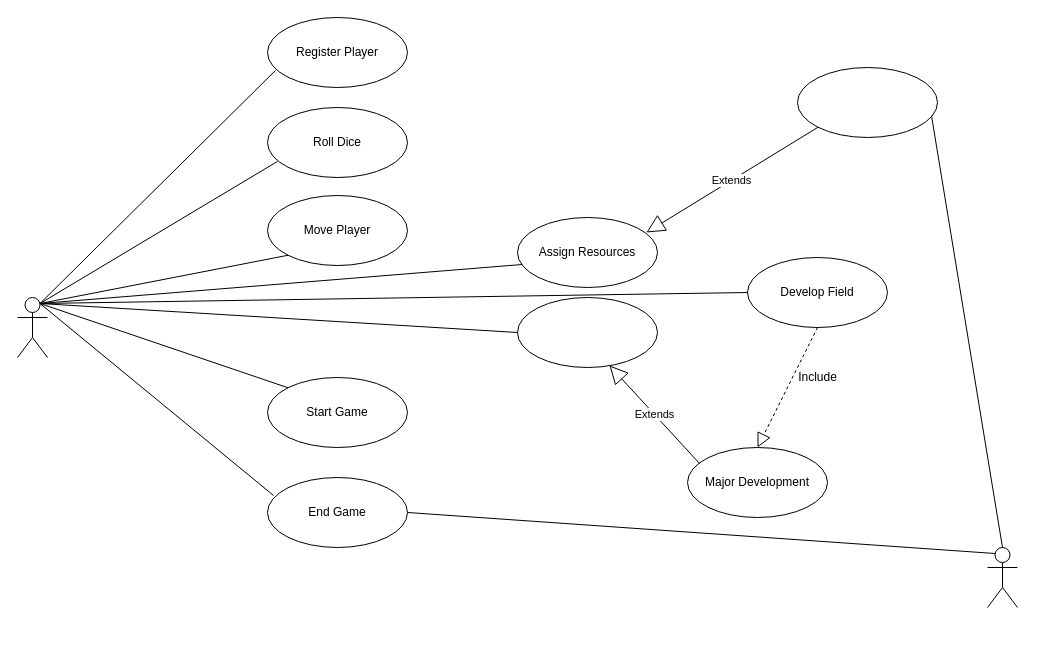
This 1040x646 diagram has some shape labels left out. Each missing label, with the box of its shape:
Amend Resources: (796, 66, 938, 138)
Own Field: (516, 296, 658, 368)
System: (986, 546, 1018, 608)
User: (16, 296, 48, 358)
